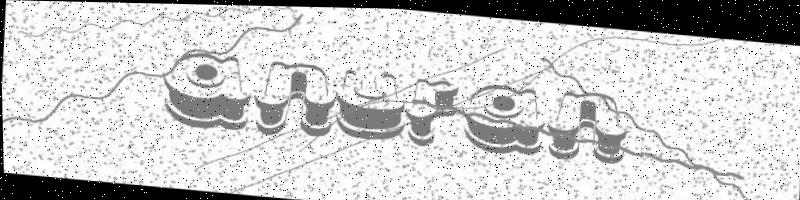a: (161, 47, 255, 131), (460, 79, 548, 154)
n: (252, 57, 339, 139), (544, 87, 631, 162)
r: (404, 76, 459, 144)
u: (334, 66, 408, 140)
